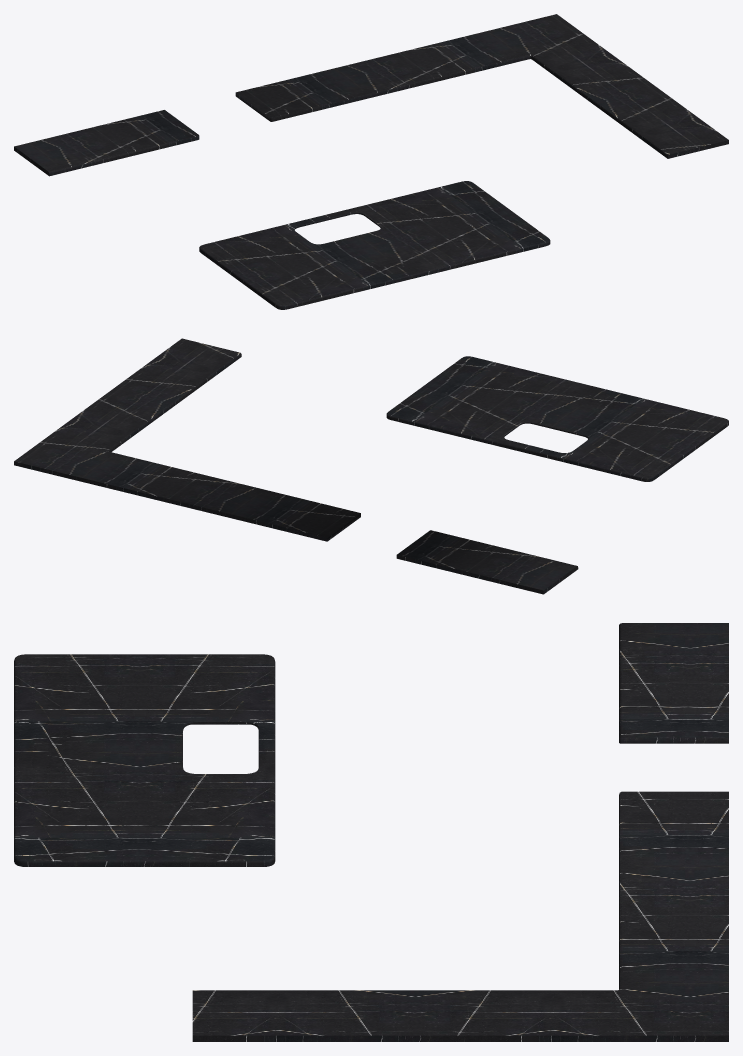
Rendered from Countertops_QuartzEtNoir.glb.
3 views of the same model, one above another, from view 1: azimuth 30°, elevation 25°; view 2: azimuth 150°, elevation 25°; view 3: azimuth 270°, elevation 25° (orthographic). The views are drawn at different scales.
Visible parts, largest first — view 1: Countertop_quartz_et_noir.001; view 2: Countertop_quartz_et_noir.001; view 3: Countertop_quartz_et_noir.001.
Part boxes in pixels (box(x1,y1,x2,y2)): Countertop_quartz_et_noir.001: box(14, 14, 728, 309); Countertop_quartz_et_noir.001: box(14, 338, 728, 594); Countertop_quartz_et_noir.001: box(14, 623, 728, 1041).
Size of the model in its own units: 7.1 by 0.07 by 5.2.
Materials: 1 (1 with a texture image).
